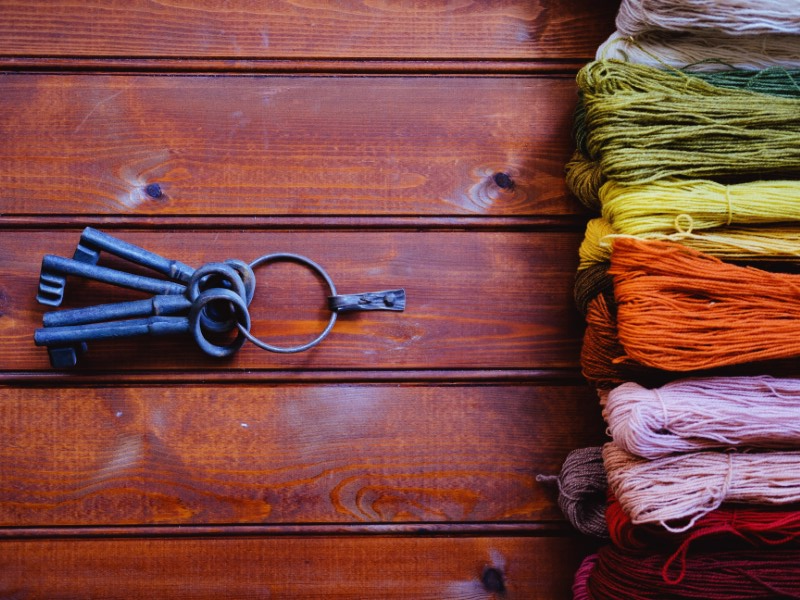key: (30, 217, 259, 370)
